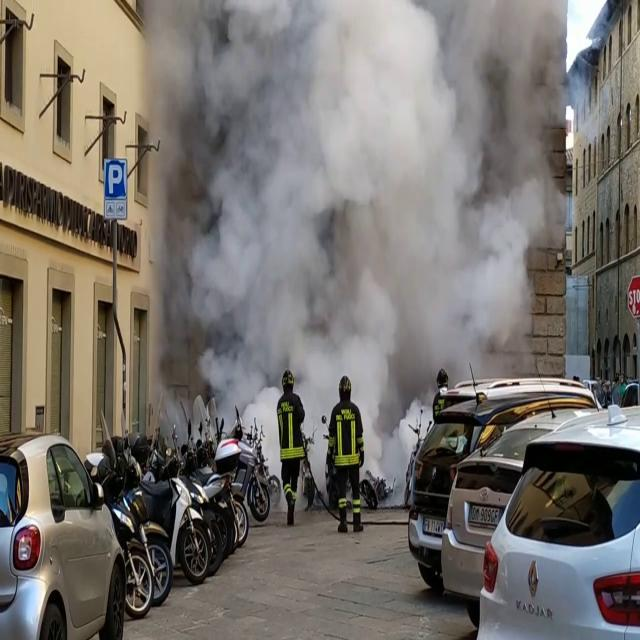Smoke: (138, 0, 567, 428)
